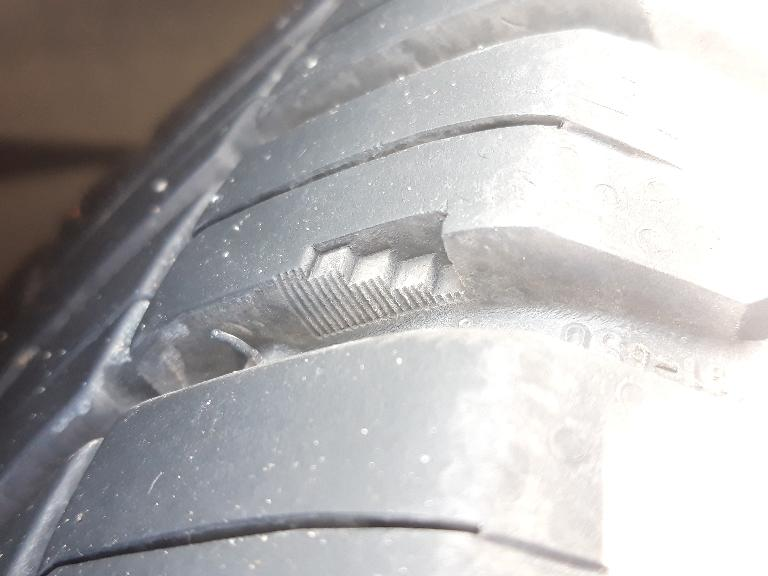temoin:90: (266, 199, 489, 349)
